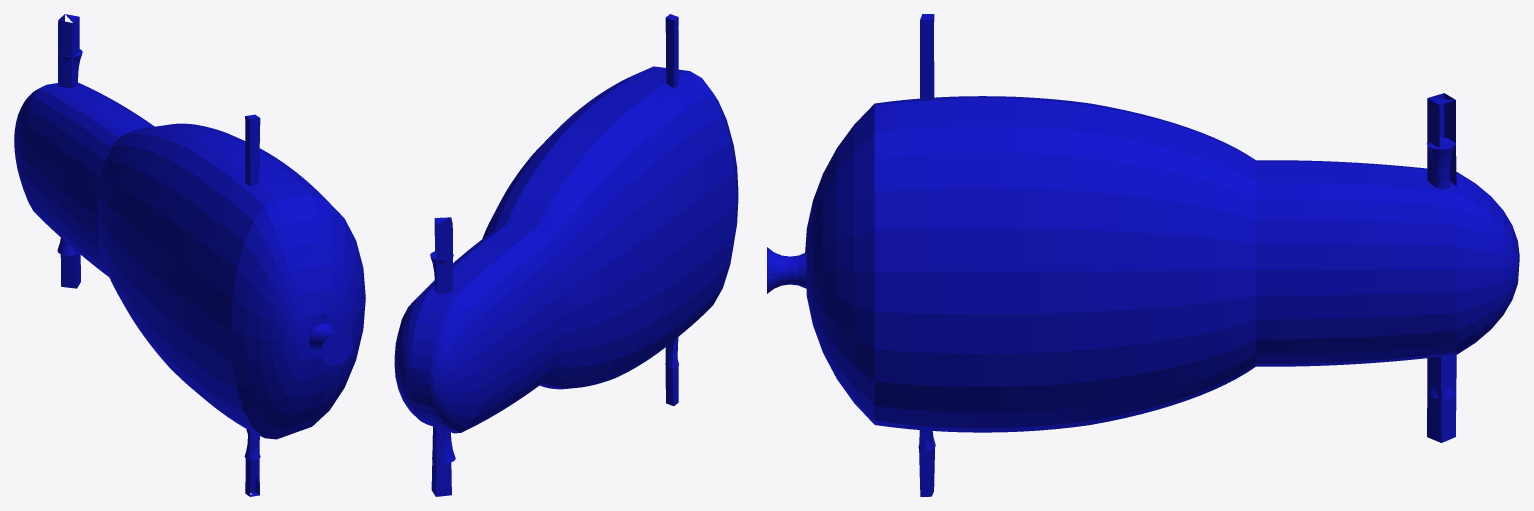
The model's file is body.obj.
3 renders of one model, left to right at view 1: azimuth 30°, elevation 25°; view 2: azimuth 150°, elevation 25°; view 3: azimuth 270°, elevation 25°, orthographic. The views are drawn at different scales.
Visible parts, largest first — view 1: Mesh1 Model; view 2: Mesh1 Model; view 3: Mesh1 Model.
Part boxes in pixels (box(x1,y1,x2,y2)): Mesh1 Model: box(14, 14, 365, 496); Mesh1 Model: box(394, 14, 738, 496); Mesh1 Model: box(767, 14, 1519, 496).
Size of the model in its own units: 0.0917 by 0.2356 by 0.3368.
